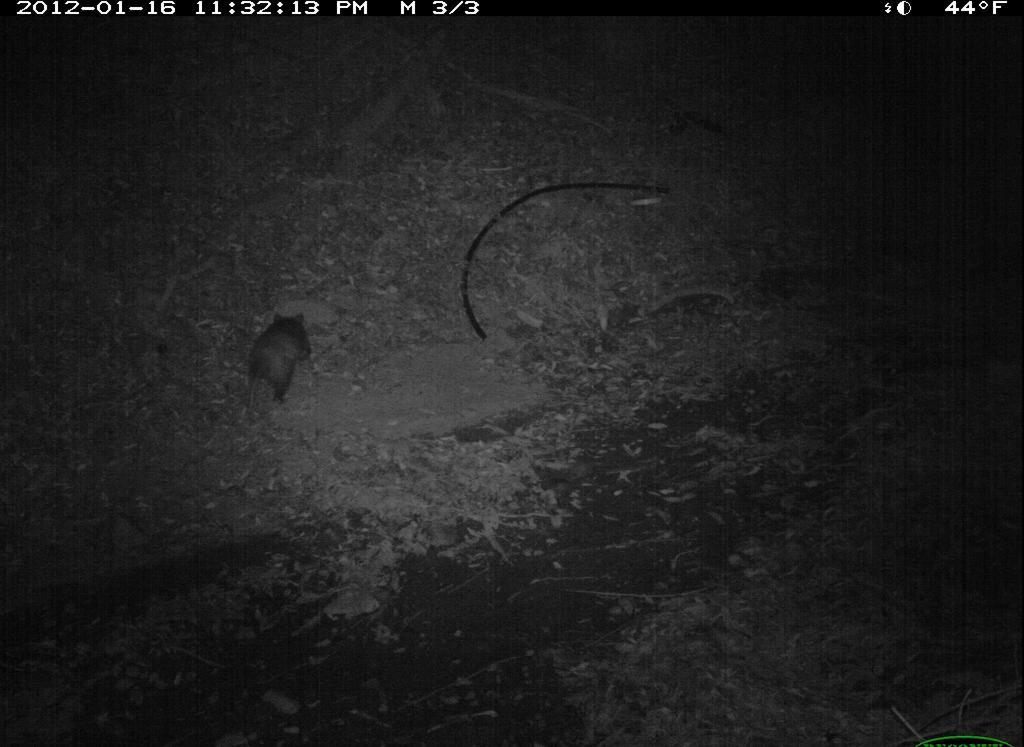opossum: (226, 295, 335, 436)
